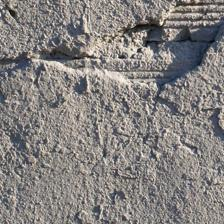Crack: (18, 2, 203, 94)
